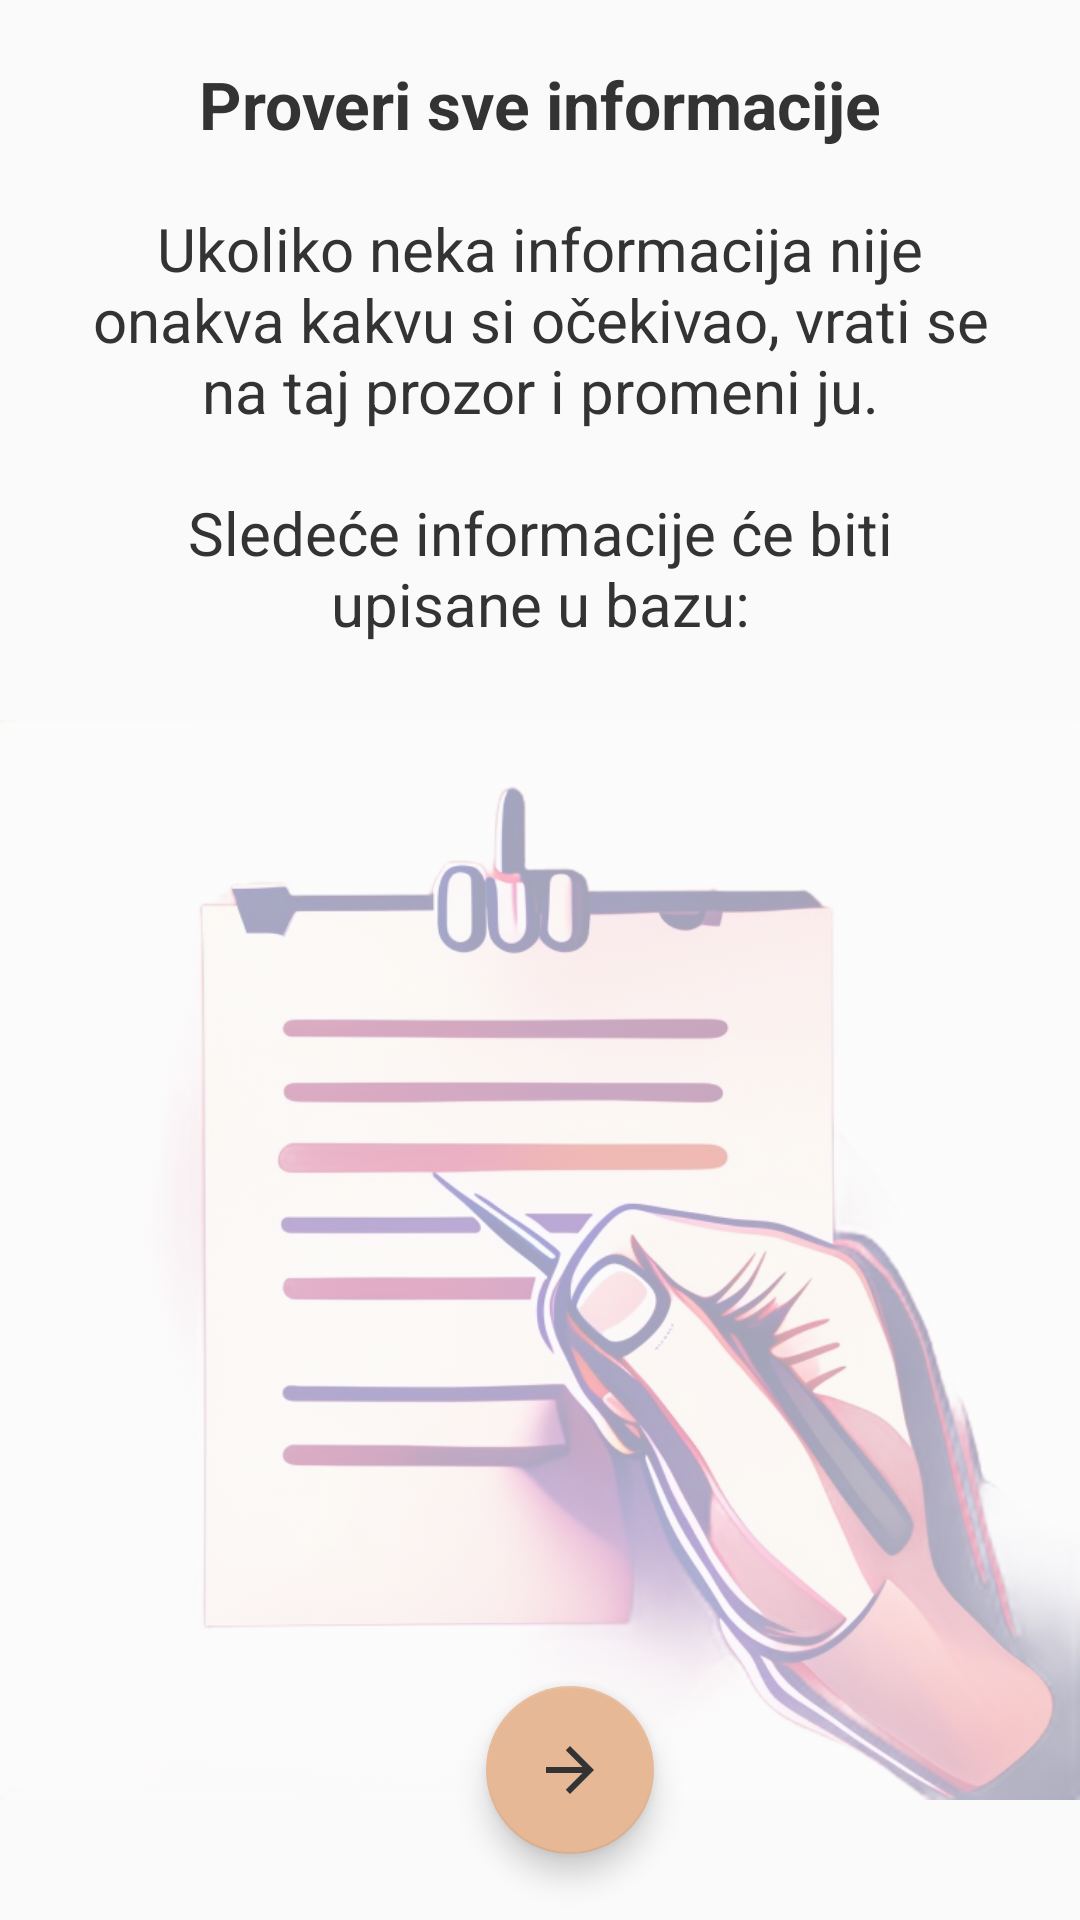

Icons on this 1080 × 1920 Android screen, each with its box as (x1, y1, x2, y2):
arrow forward: (486, 1686, 654, 1854)
